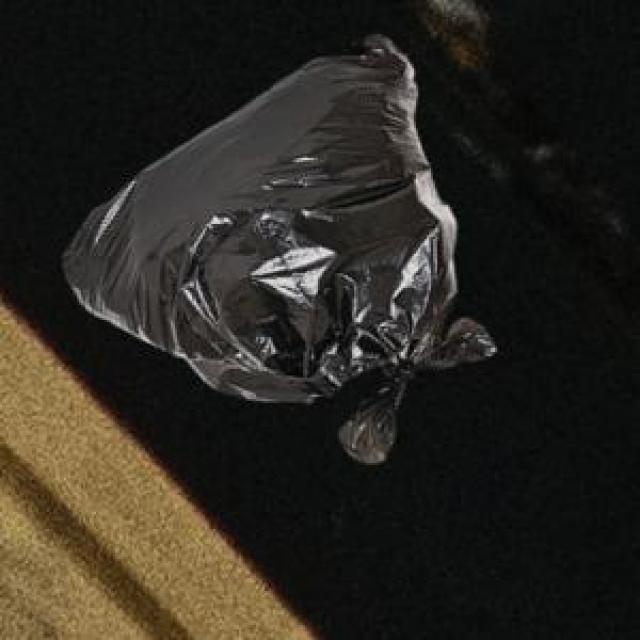waste: (62, 36, 495, 437)
